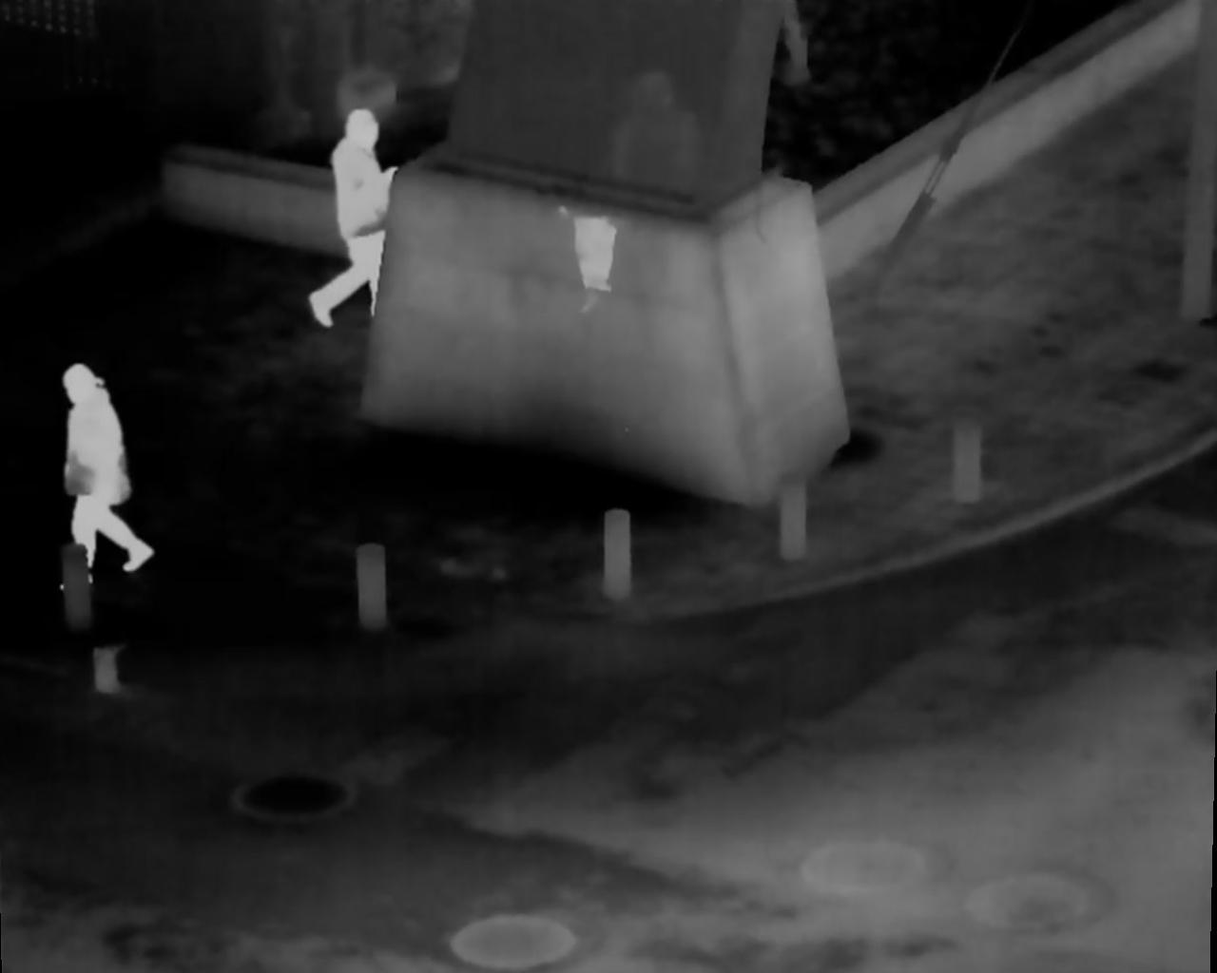person: (57, 363, 158, 586), (307, 107, 407, 320)
